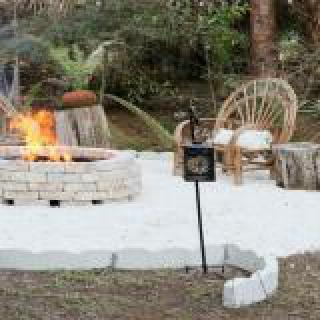fire: (10, 108, 74, 164)
